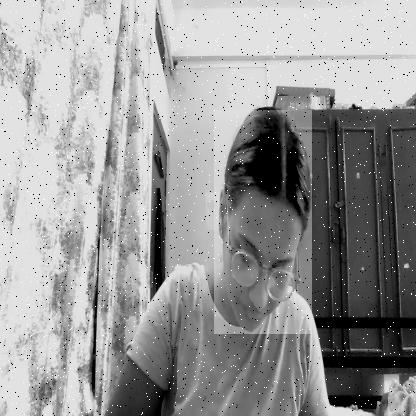Distracted: (214, 110, 312, 334)
